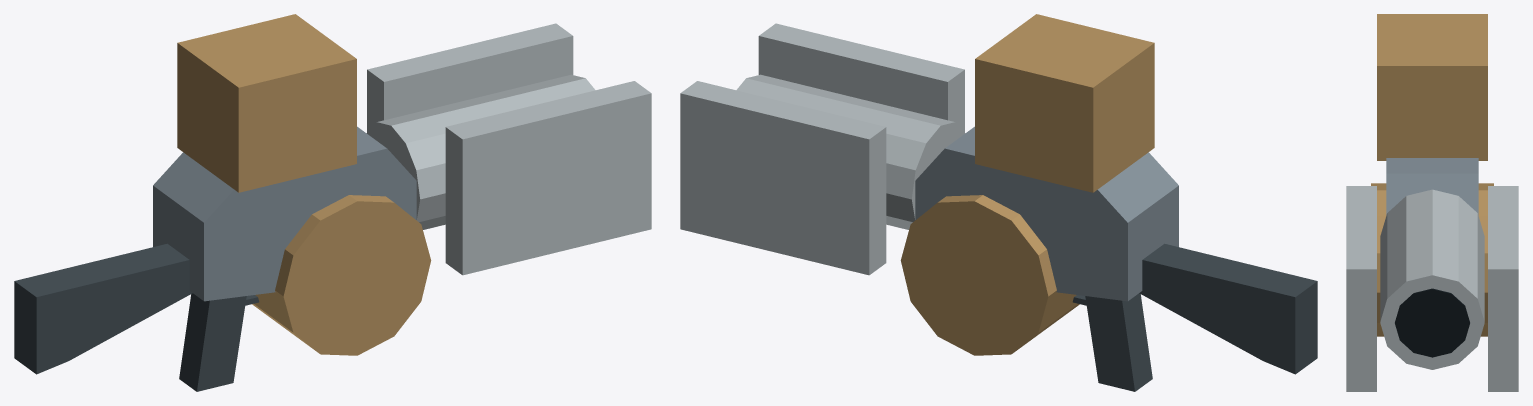
Rendered from w28-scrap-cyclone.glb.
The picture shows the model from 3 angles, left to right: view 1: azimuth 30°, elevation 25°; view 2: azimuth 150°, elevation 25°; view 3: azimuth 270°, elevation 25°; orthographic projection. The views are drawn at different scales.
Visible parts, largest first — view 1: w28-scrap-cyclone__magnetic_scoop_-0.115, w28-scrap-cyclone__scrap_hopper, w28-scrap-cyclone__receiver, w28-scrap-cyclone__feed_drum, w28-scrap-cyclone__stock, w28-scrap-cyclone__magnetic_scoop_0.115, w28-scrap-cyclone__barrel, w28-scrap-cyclone__grip; view 2: w28-scrap-cyclone__magnetic_scoop_0.115, w28-scrap-cyclone__scrap_hopper, w28-scrap-cyclone__receiver, w28-scrap-cyclone__feed_drum, w28-scrap-cyclone__stock, w28-scrap-cyclone__magnetic_scoop_-0.115, w28-scrap-cyclone__barrel, w28-scrap-cyclone__grip; view 3: w28-scrap-cyclone__scrap_hopper, w28-scrap-cyclone__barrel, w28-scrap-cyclone__magnetic_scoop_-0.115, w28-scrap-cyclone__magnetic_scoop_0.115, w28-scrap-cyclone__barrel_bore, w28-scrap-cyclone__receiver, w28-scrap-cyclone__feed_drum.
Part boxes in pixels (x1,y1,x2,y2): w28-scrap-cyclone__magnetic_scoop_-0.115: (445,81,651,275); w28-scrap-cyclone__scrap_hopper: (177,14,356,192); w28-scrap-cyclone__receiver: (153,126,416,301); w28-scrap-cyclone__feed_drum: (252,195,431,355); w28-scrap-cyclone__stock: (14,243,192,374); w28-scrap-cyclone__magnetic_scoop_0.115: (367,23,573,131); w28-scrap-cyclone__barrel: (366,74,595,229); w28-scrap-cyclone__grip: (179,293,246,391); w28-scrap-cyclone__magnetic_scoop_0.115: (680,81,886,275); w28-scrap-cyclone__scrap_hopper: (975,14,1154,192); w28-scrap-cyclone__receiver: (915,126,1178,301); w28-scrap-cyclone__feed_drum: (900,195,1079,355); w28-scrap-cyclone__stock: (1139,243,1317,374); w28-scrap-cyclone__magnetic_scoop_-0.115: (758,23,964,131); w28-scrap-cyclone__barrel: (736,74,965,229); w28-scrap-cyclone__grip: (1085,293,1152,391); w28-scrap-cyclone__scrap_hopper: (1377,14,1487,160); w28-scrap-cyclone__barrel: (1380,189,1484,369); w28-scrap-cyclone__magnetic_scoop_-0.115: (1346,186,1376,391); w28-scrap-cyclone__magnetic_scoop_0.115: (1488,186,1518,391); w28-scrap-cyclone__barrel_bore: (1395,288,1469,357); w28-scrap-cyclone__receiver: (1386,158,1478,215); w28-scrap-cyclone__feed_drum: (1371,183,1493,336).
Size of the model in its own units: 0.9792 by 0.51 by 0.28.
